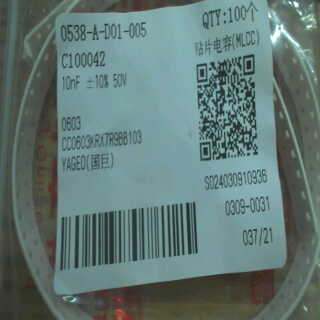10nF: (60, 71, 83, 95)
